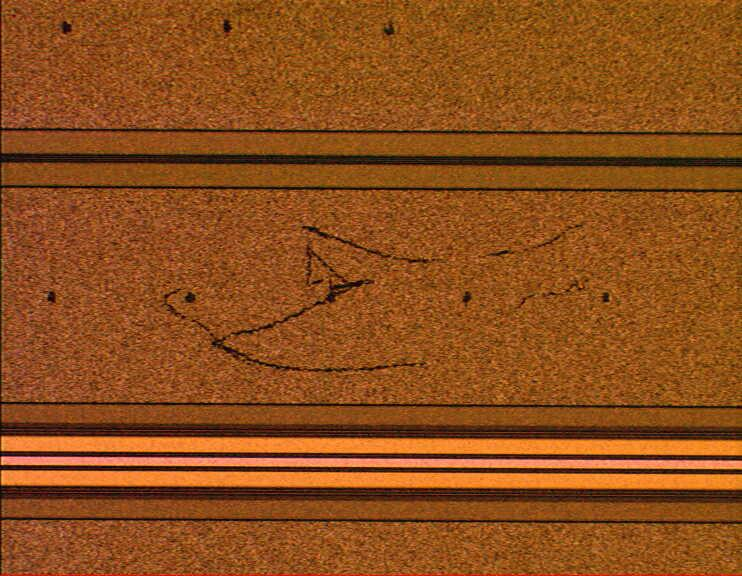SCRATCH: (156, 214, 603, 383)
